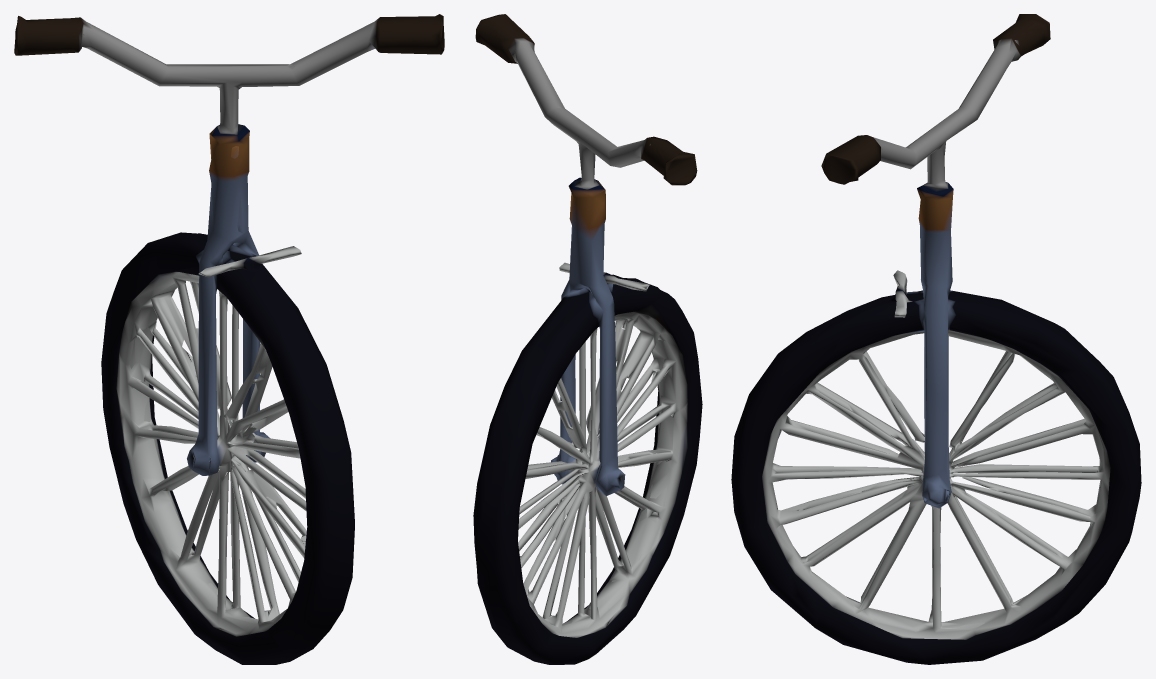
File: gen3d-unicycle-lod0.glb
3 renders of one model, left to right at view 1: azimuth 30°, elevation 25°; view 2: azimuth 150°, elevation 25°; view 3: azimuth 270°, elevation 25°, orthographic. The views are drawn at different scales.
Parts seen in each view (by area): view 1: part_0; view 2: part_0; view 3: part_0.
Part boxes in pixels (box(x1,y1,x2,y2)): part_0: box(14, 14, 444, 664); part_0: box(473, 14, 702, 664); part_0: box(731, 14, 1141, 664).
Size of the model in its own units: 0.559 by 0.9985 by 0.6432.
